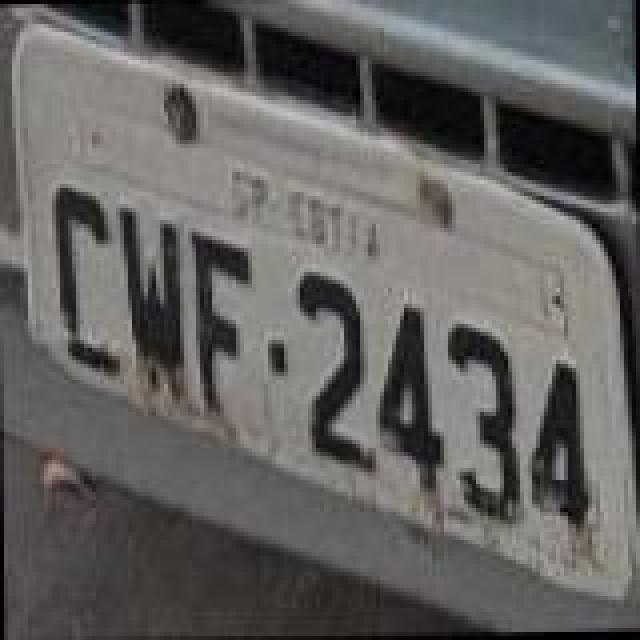2: (296, 270, 376, 478)
3: (444, 324, 520, 532)
4: (526, 360, 598, 560), (374, 306, 446, 502)
C: (52, 184, 124, 384)
F: (194, 228, 254, 412)
W: (118, 206, 186, 406)
